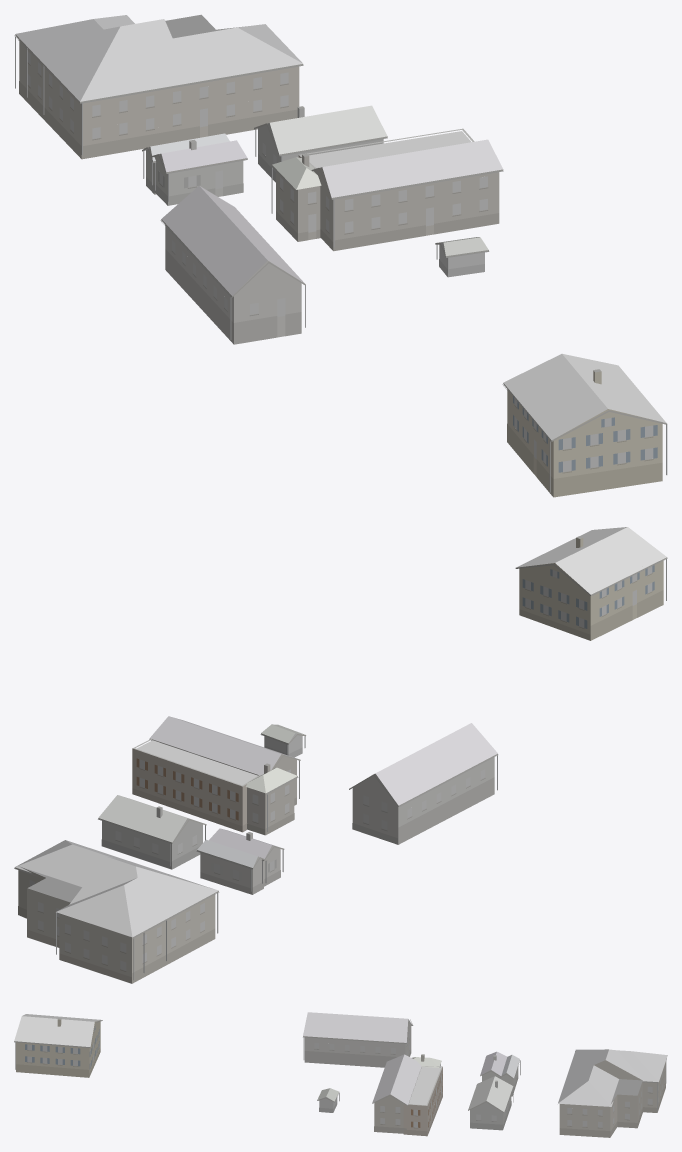
3 renders of one model, top to bottom at view 1: azimuth 30°, elevation 25°; view 2: azimuth 150°, elevation 25°; view 3: azimuth 270°, elevation 25°, orthographic. The views are drawn at different scales.
Parts seen in each view (by area): view 1: bld; view 2: bld; view 3: bld.
Part boxes in pixels (left/top/right/bottom): bld: left=14, top=14, right=667, bottom=497; bld: left=14, top=527, right=667, bottom=983; bld: left=14, top=1012, right=667, bottom=1137.
Size of the model in its own units: 43.73 by 16.33 by 135.
